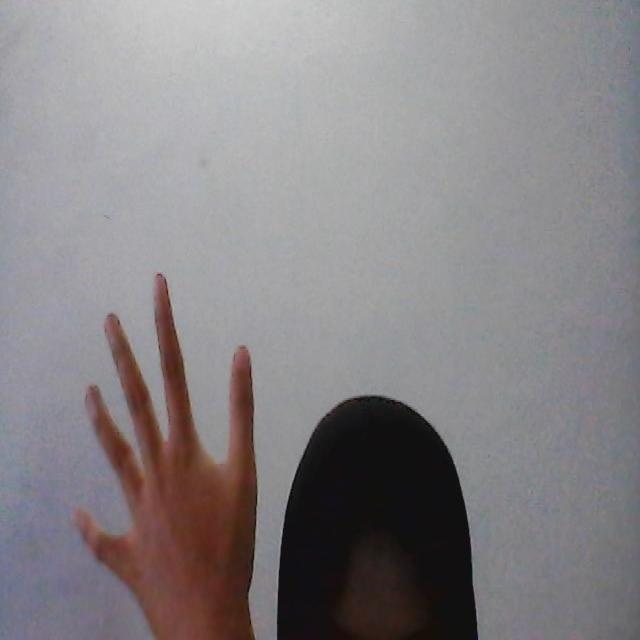hand: (74, 255, 258, 640)
